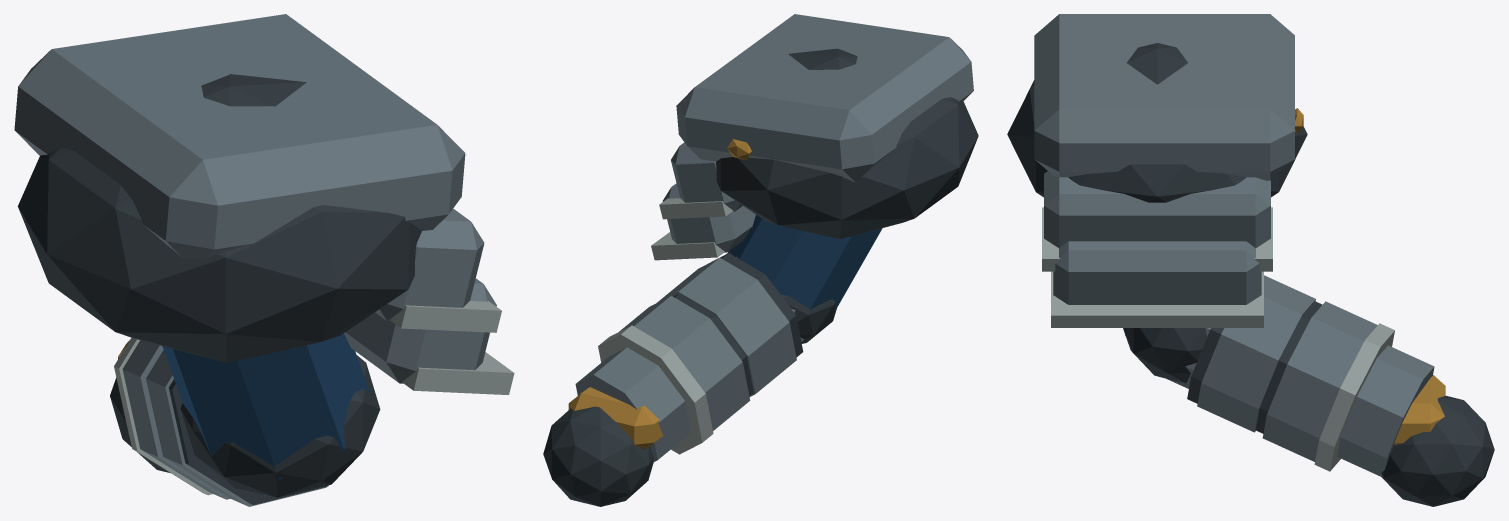
Rendered from ArmRight.glb.
The picture shows the model from 3 angles, left to right: view 1: azimuth 30°, elevation 25°; view 2: azimuth 150°, elevation 25°; view 3: azimuth 270°, elevation 25°; orthographic projection. The views are drawn at different scales.
Visible parts, largest first — view 1: Sculpture; view 2: Sculpture; view 3: Sculpture.
Part boxes in pixels (x1=…): Sculpture: x1=14, y1=14, x2=514, y2=506; Sculpture: x1=543, y1=14, x2=978, y2=506; Sculpture: x1=1007, y1=14, x2=1494, y2=506.
Bounding box in the file's own units: 0.552 × 0.7171 × 0.795.
